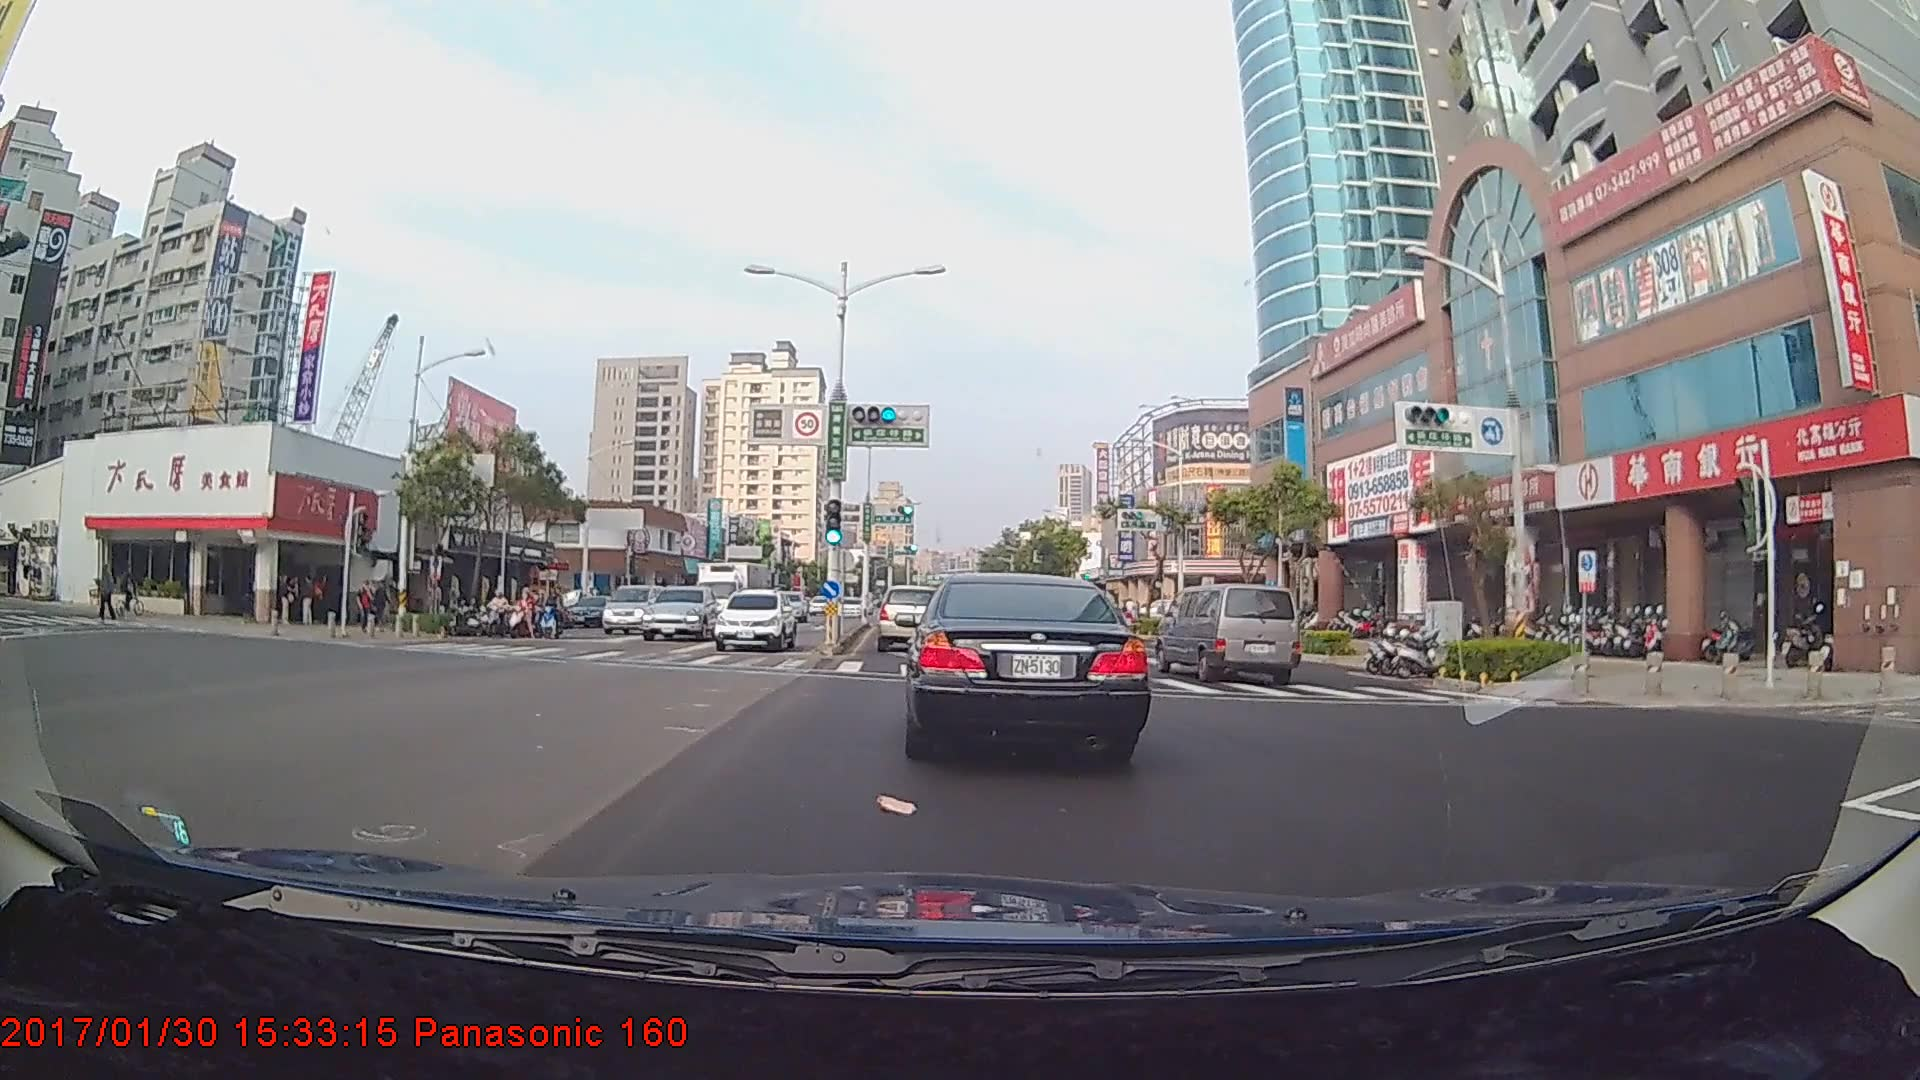pedestrian: (96, 560, 117, 624), (272, 572, 293, 631), (355, 580, 375, 636), (296, 577, 317, 629)
rider: (529, 584, 569, 644), (476, 590, 511, 642), (501, 588, 534, 641)
vehicle: (905, 568, 1143, 762), (1160, 580, 1301, 687), (697, 558, 777, 637), (712, 588, 798, 652), (875, 583, 946, 655), (640, 585, 718, 641), (597, 583, 662, 638)
